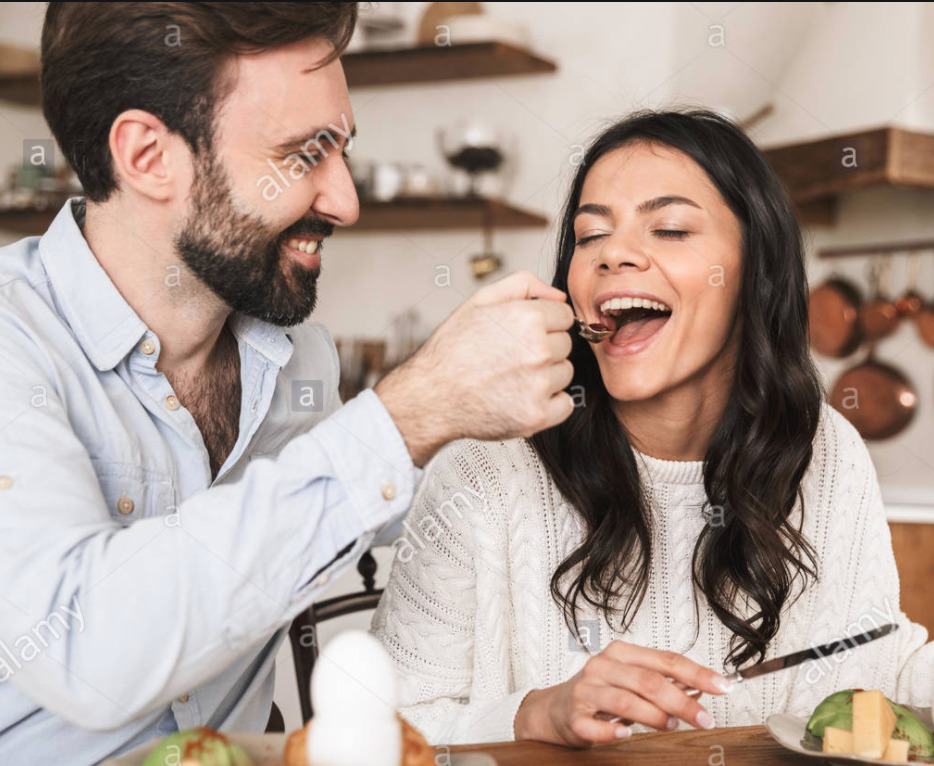Bad: (3, 2, 934, 736)
